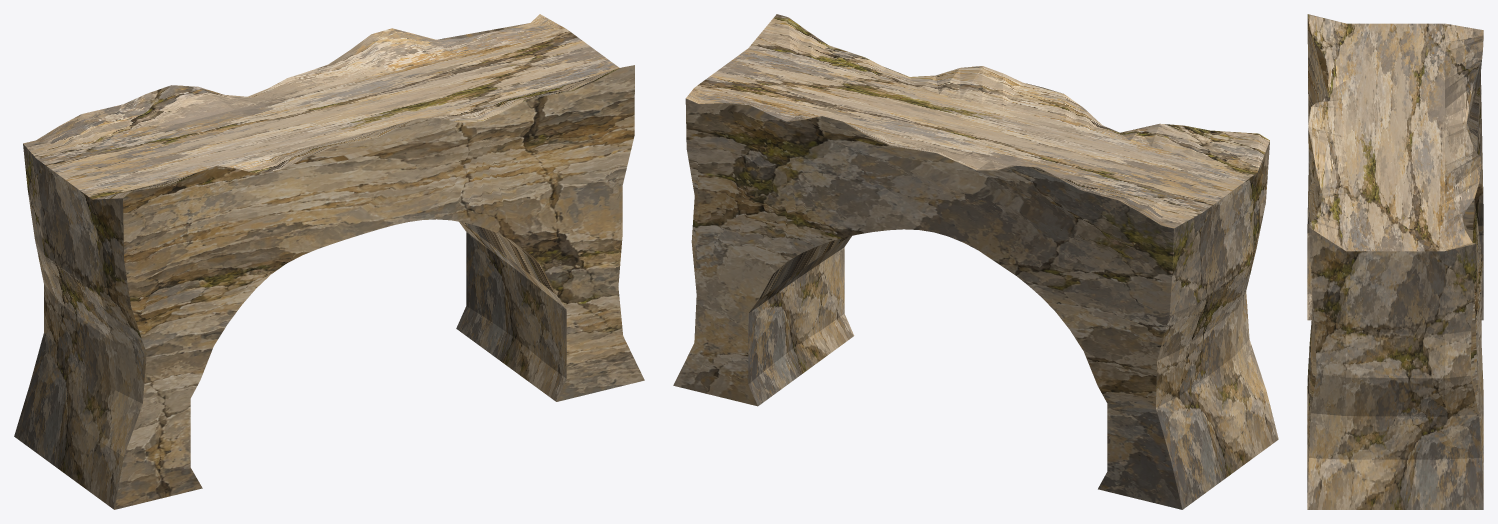
Rendered from large-runtime.obj.
3 renders of one model, left to right at view 1: azimuth 30°, elevation 25°; view 2: azimuth 150°, elevation 25°; view 3: azimuth 270°, elevation 25°, orthographic. The views are drawn at different scales.
Parts seen in each view (by area): view 1: large-runtime; view 2: large-runtime; view 3: large-runtime.
Part boxes in pixels (left/top/right/bottom): large-runtime: left=14, top=14, right=644, bottom=509; large-runtime: left=673, top=14, right=1278, bottom=509; large-runtime: left=1307, top=14, right=1483, bottom=509.
Bounding box in the file's own units: 12 × 6.86 × 3.93.
1 material, 1 textured.
